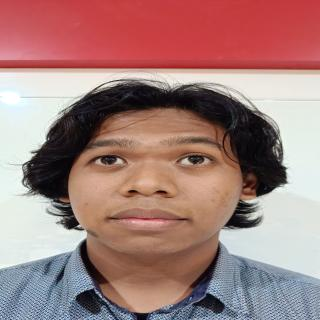Takut: (68, 105, 244, 264)
